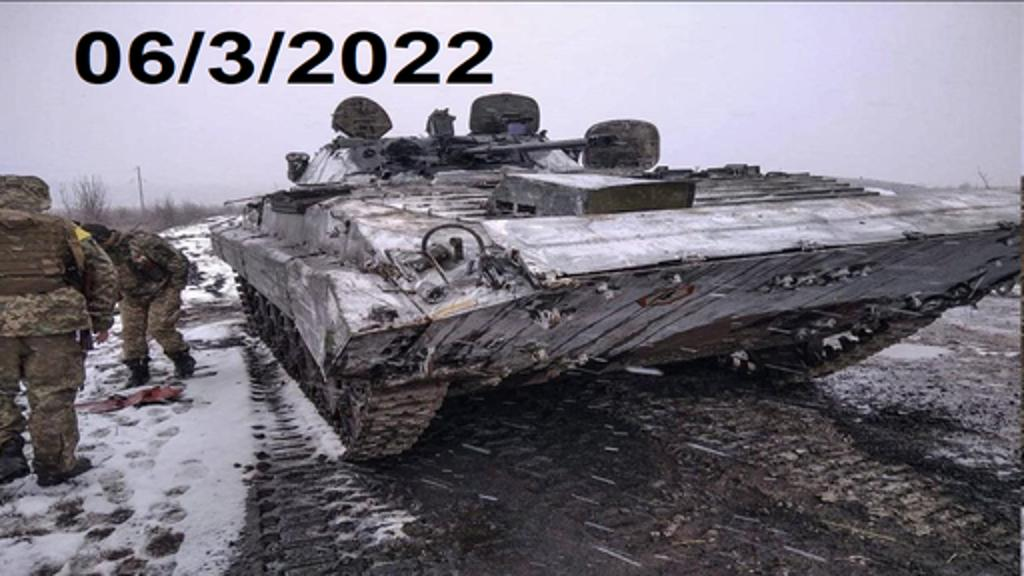APC-IFV: (208, 100, 1020, 464)
